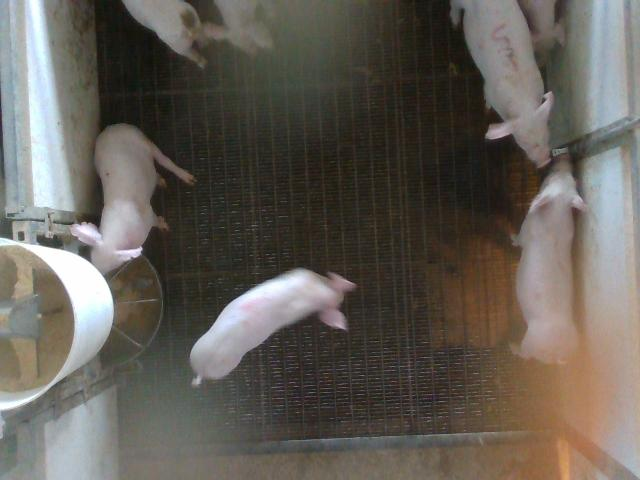pig-3: (450, 0, 554, 167)
pig-4: (190, 269, 355, 386)
